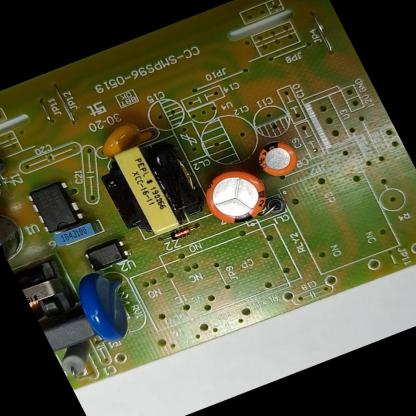Cap1: (193, 159, 282, 234)
Cap2: (251, 134, 306, 183)
Cap3: (0, 208, 39, 271)
Cap4: (0, 157, 12, 217)
MOSFET: (24, 176, 89, 236)
Mov: (66, 262, 152, 350)
Resistor: (55, 341, 103, 381)
Transformer: (92, 132, 211, 248), (14, 258, 80, 323)
